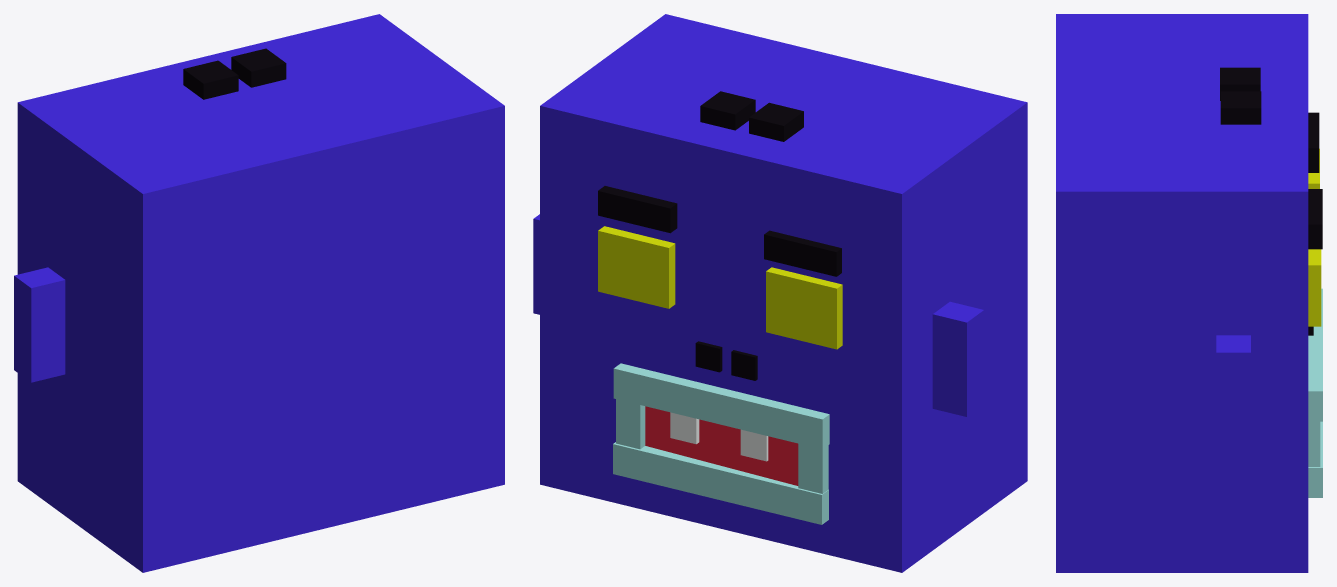
The model's file is zombie _azul.fbx.
The picture shows the model from 3 angles, left to right: view 1: azimuth 30°, elevation 25°; view 2: azimuth 150°, elevation 25°; view 3: azimuth 270°, elevation 25°; orthographic projection.
Visible parts, largest first — view 1: Plano; view 2: Plano; view 3: Plano.
Part boxes in pixels (x1,y1,x2,y2): Plano: [14, 14, 504, 572]; Plano: [533, 14, 1027, 572]; Plano: [1056, 14, 1322, 572].
Size of the model in its own units: 238 by 208 by 127.
